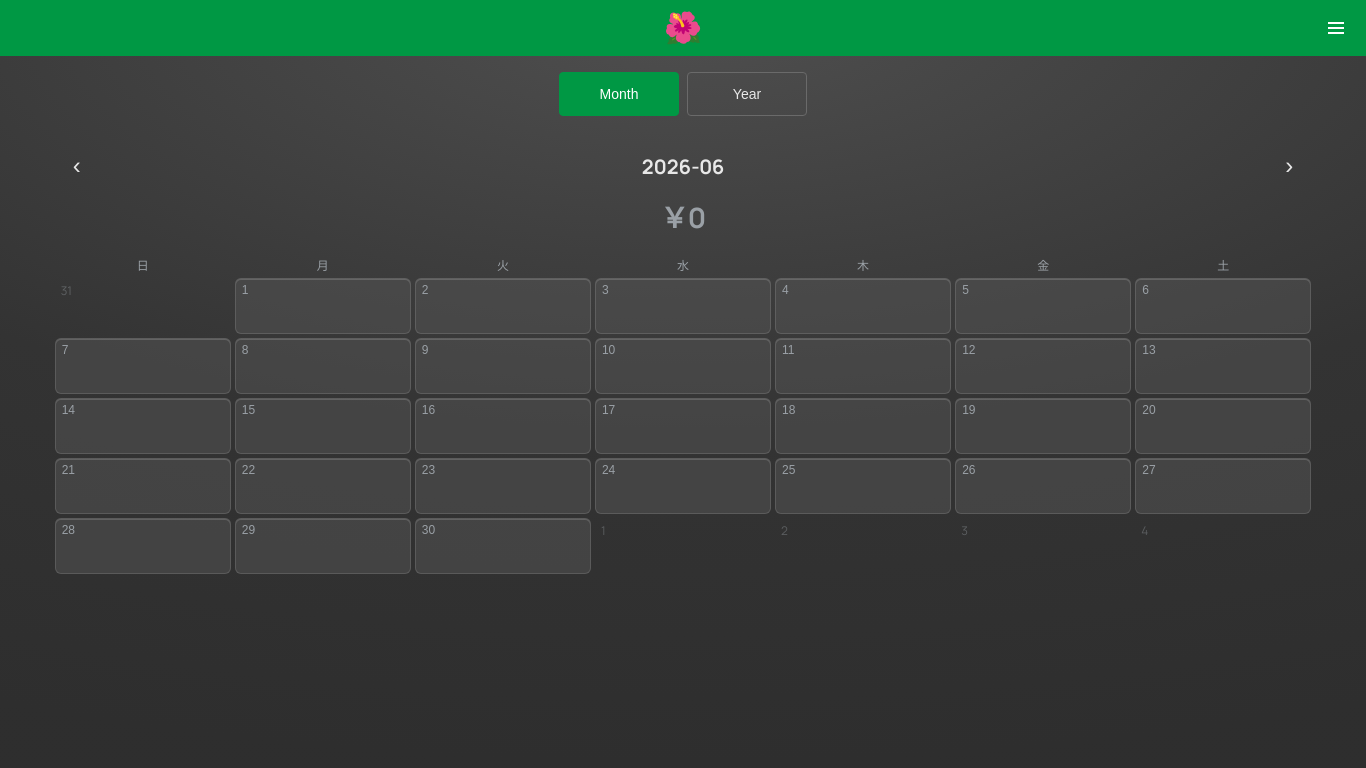
Test case: 日次入力・編集 › 投資に 1000000 を入力すると 999999 になる（上限補正）
Step 1. Click the button "10" → (683,366), box [595,338,771,394]
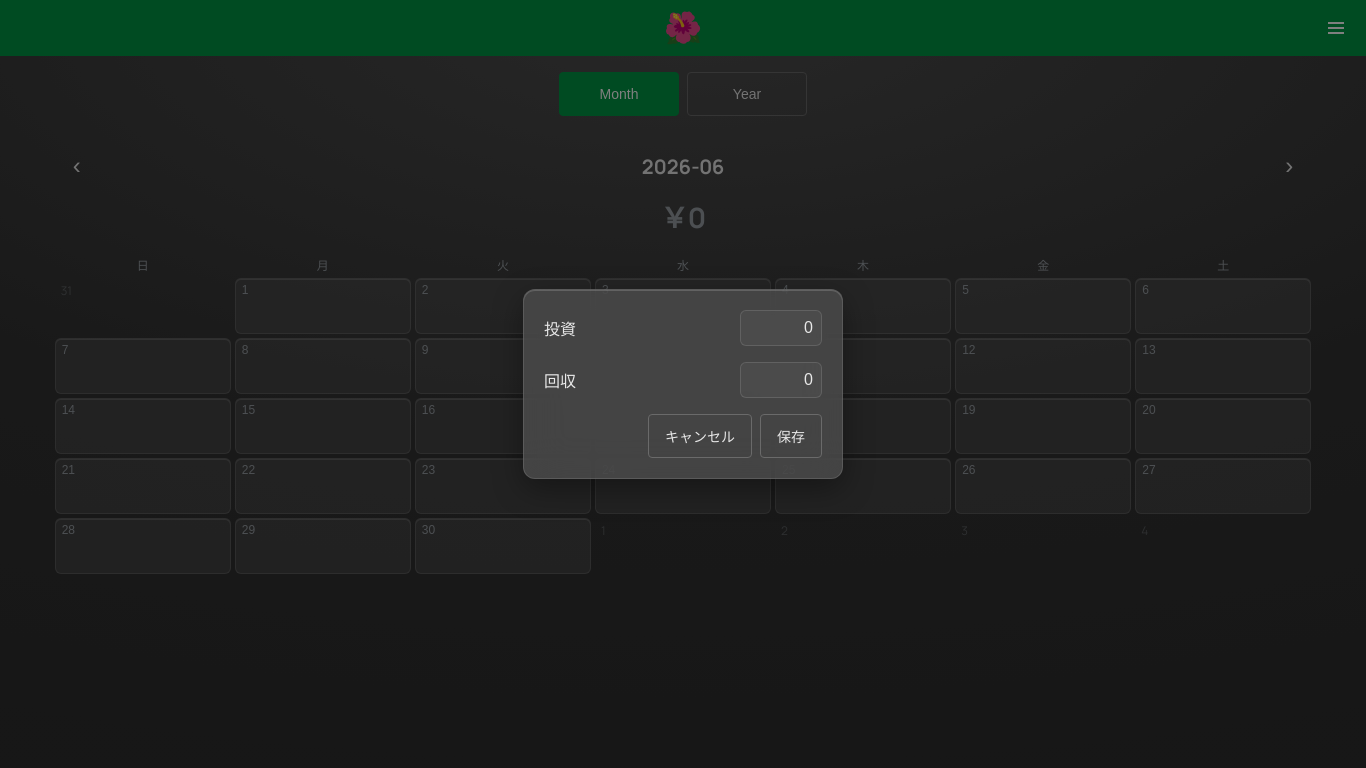
Step 2. Replace the text in the field named "投資" with "1000000" → (781,328), box [740,310,822,346]
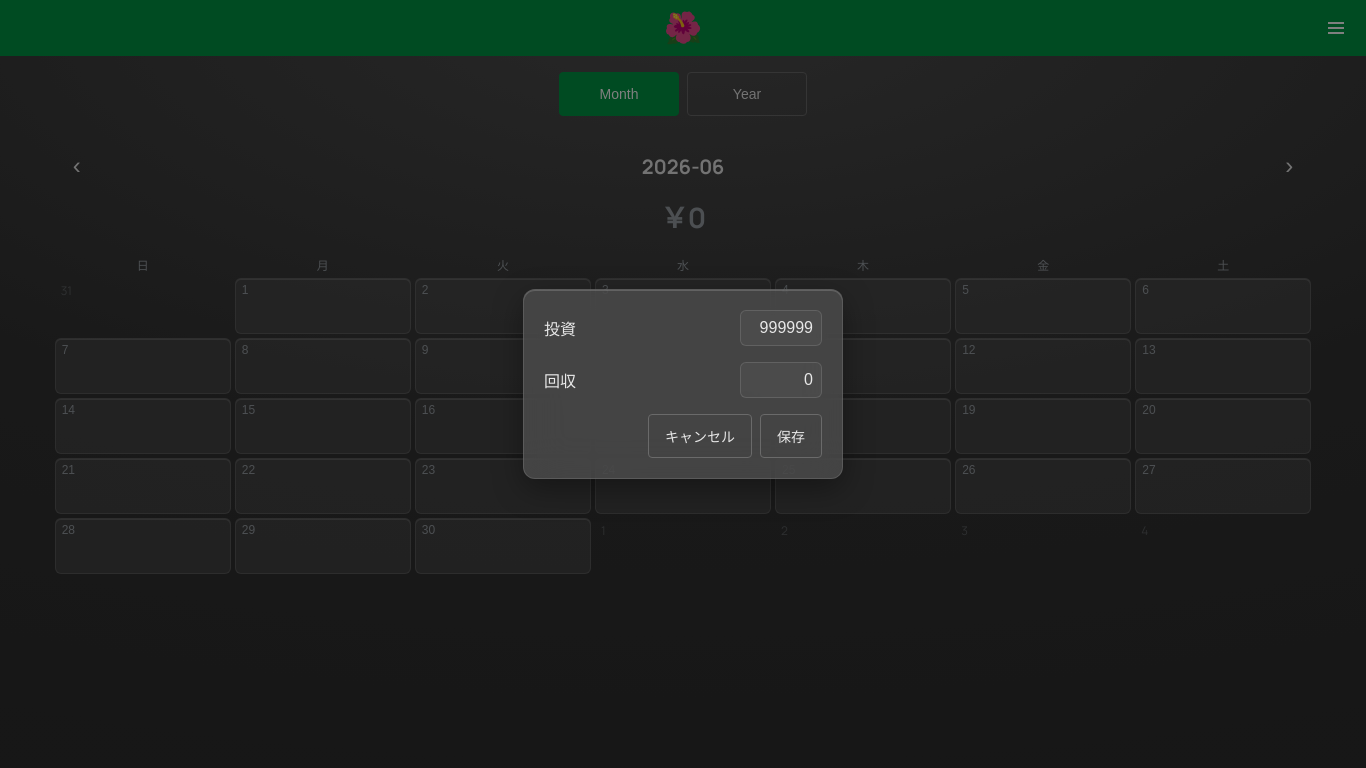
Result: the field named "投資" holds "999999" at [740,310,822,346]
